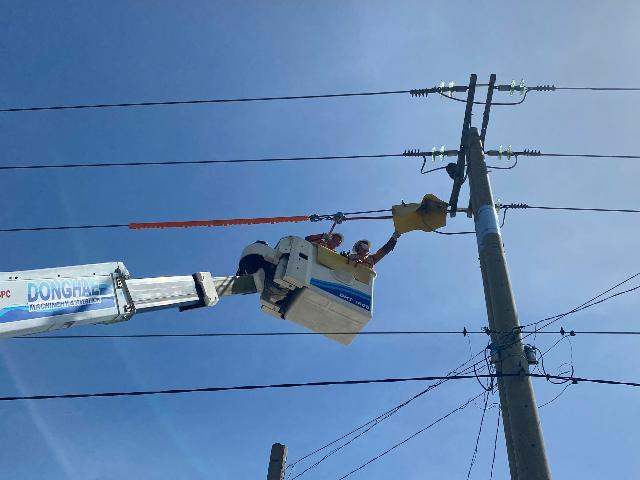gloves: (319, 227, 334, 244), (392, 228, 403, 244), (348, 253, 358, 260)
helmet: (324, 225, 343, 248), (353, 235, 371, 256)
